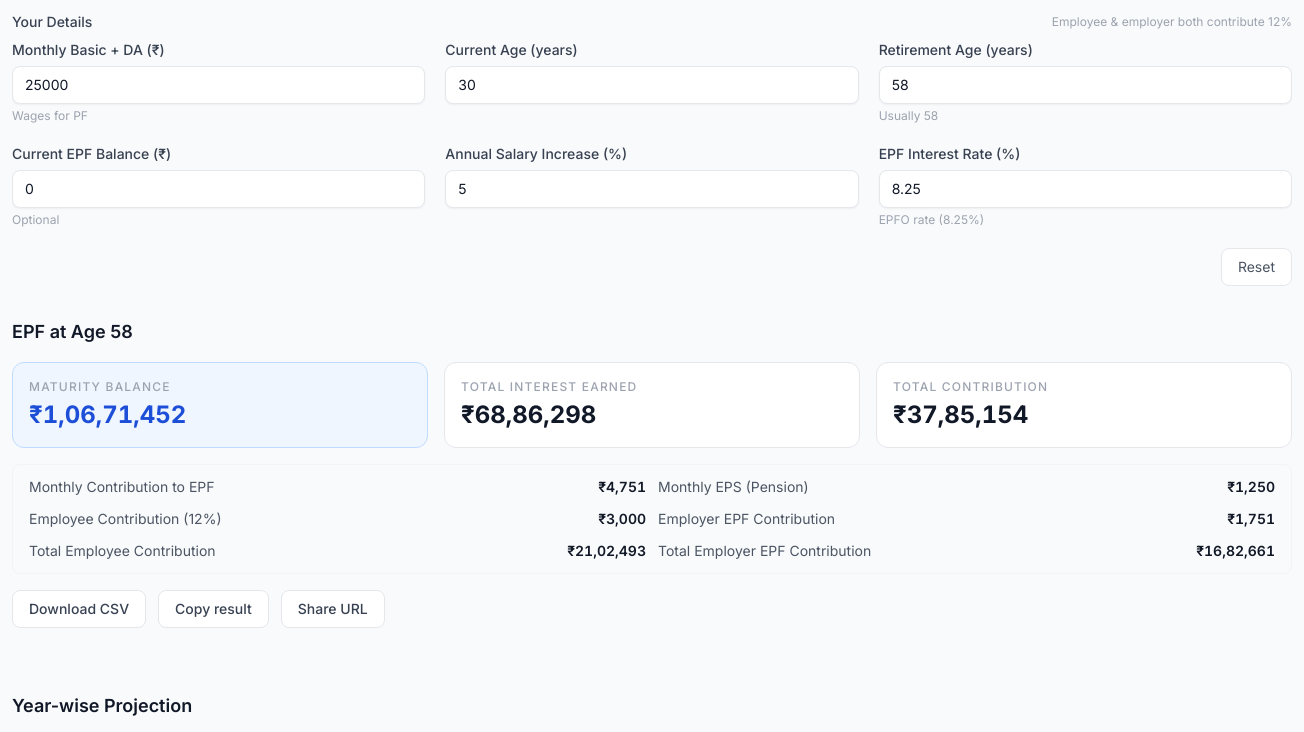
Test: EPFCalculator › reset restores default wages
The width and height of the screenshot is (1304, 732).
Replace the text in the number field labelled "Monthly Basic + DA (₹)" with "99999" at coordinates (219, 85), box [12,66,425,104]
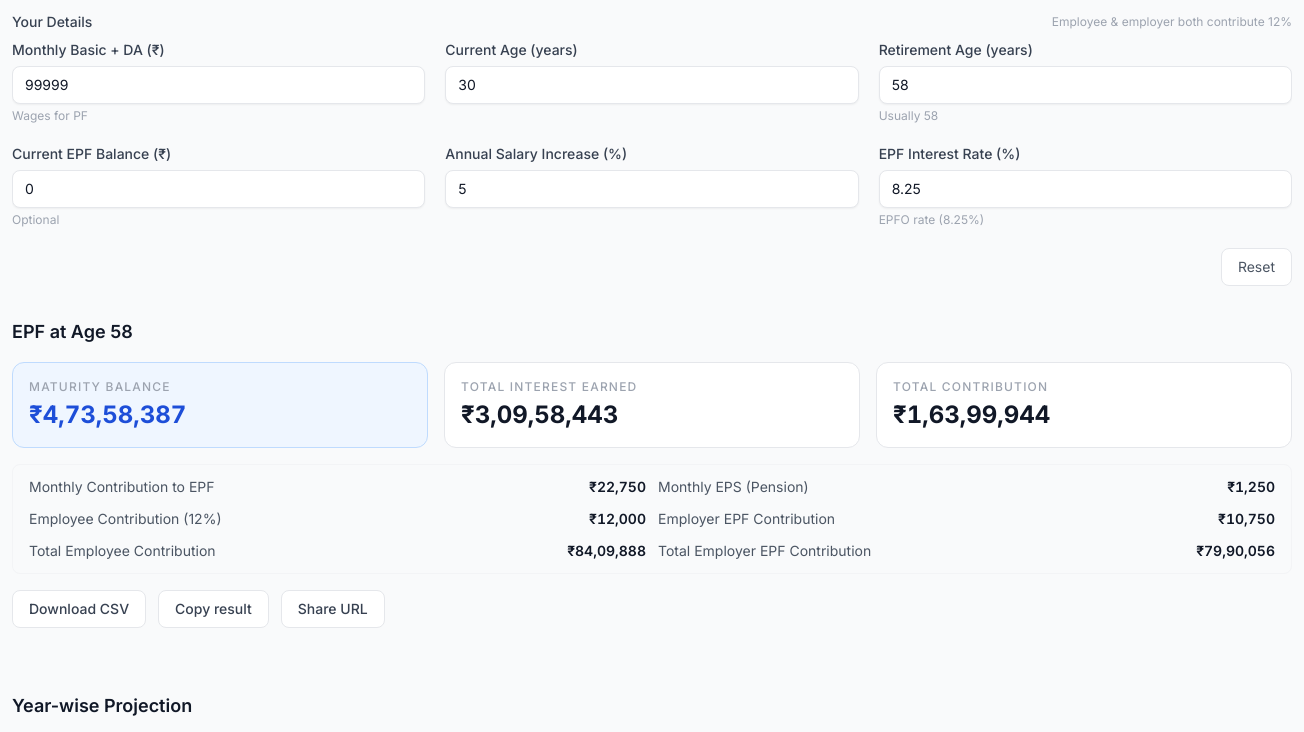
Click the button "Reset" at coordinates (1256, 267), box [1221,248,1292,286]
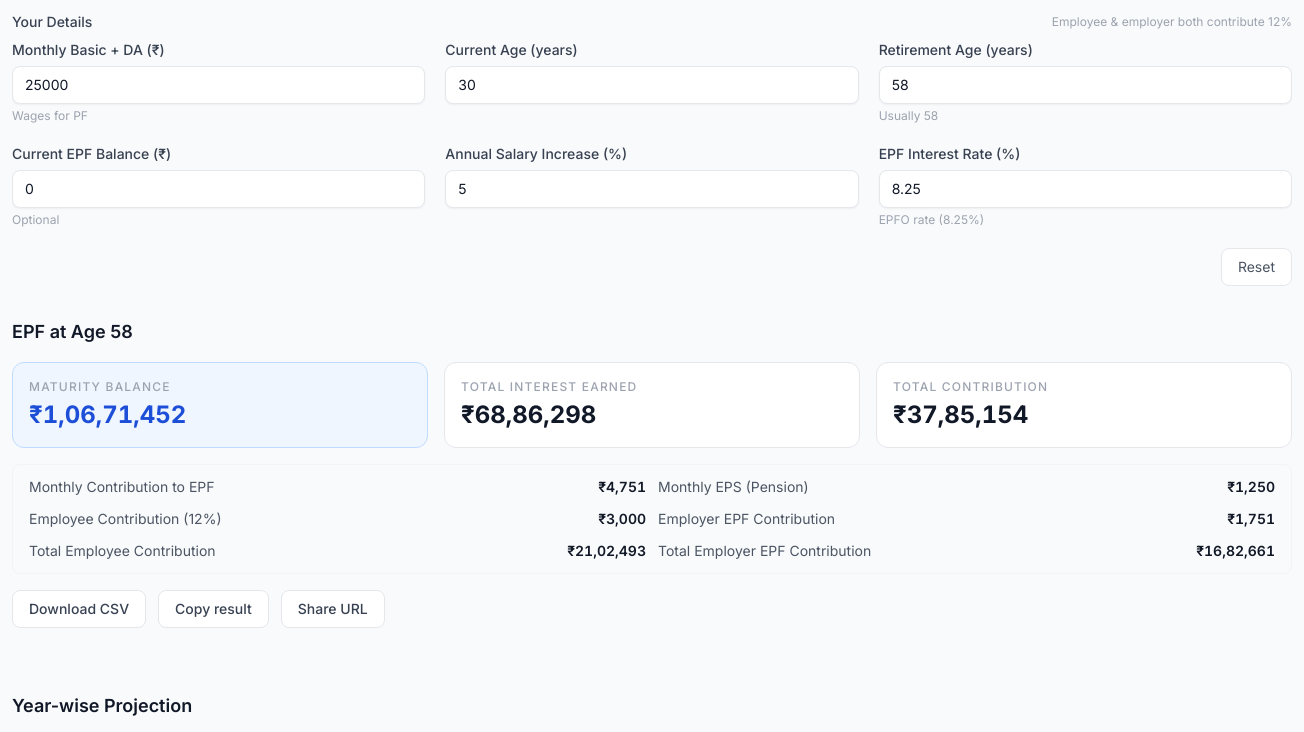
Now the number field labelled "Monthly Basic + DA (₹)" holds "25000", box [12,66,425,104]
